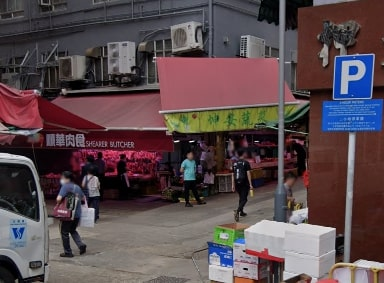Parking: (327, 53, 377, 101)
